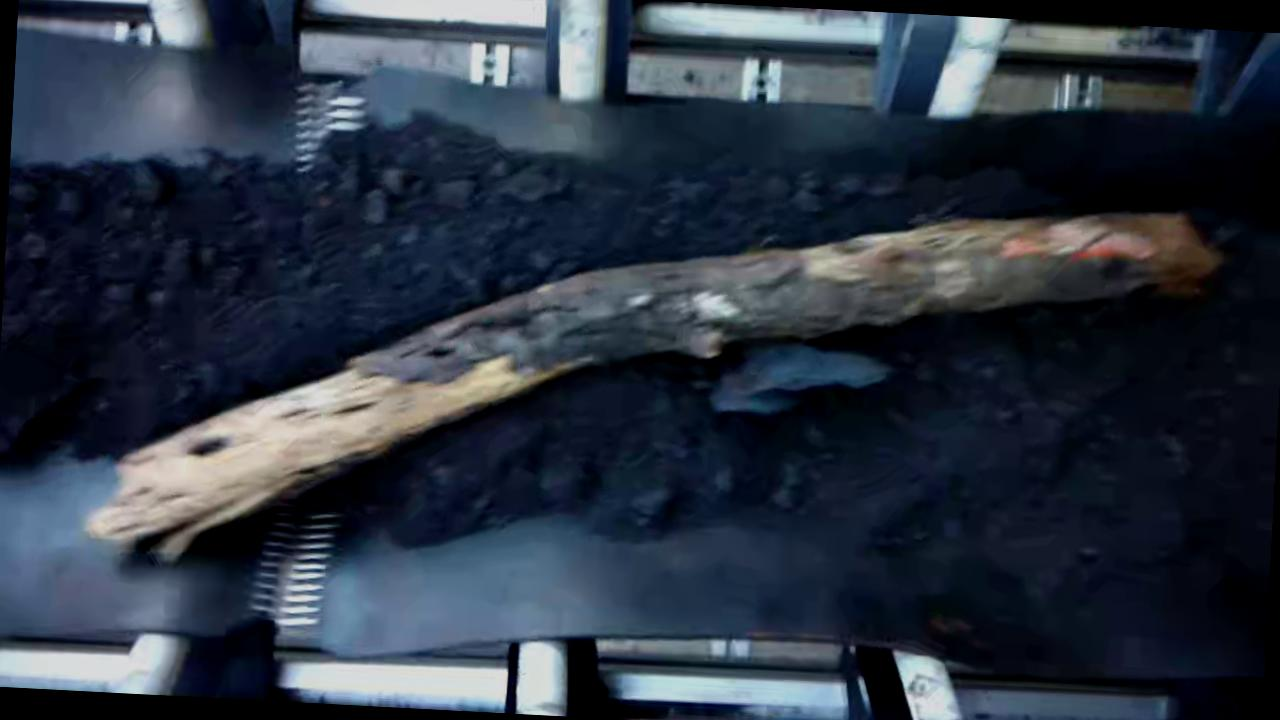conveyor: (0, 68, 1280, 668)
